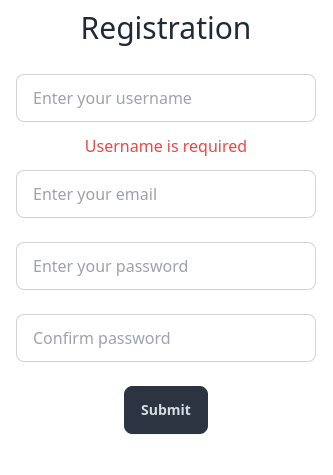
Scenario: Registration Form test suite › checks if email is empty
This screenshot has width=333, height=475.
Clear the field with id "email". click: (166, 194)
box: [16,170,316,218]
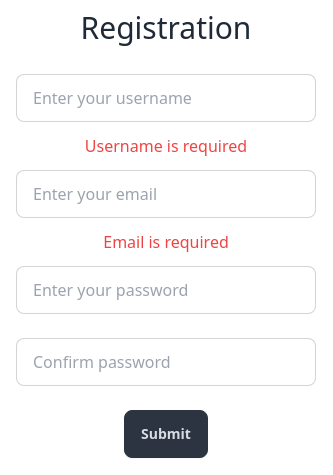
Expected: the text with id "email-validation-error" reads "Email is required", [103,231,229,253]
